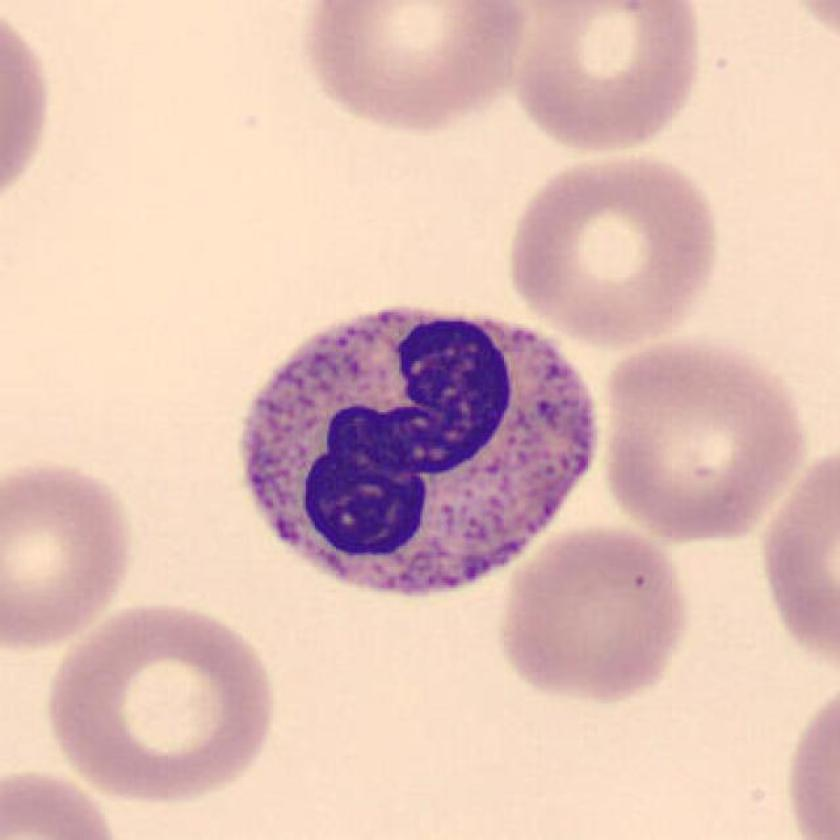neutrophil: (241, 307, 597, 594)
